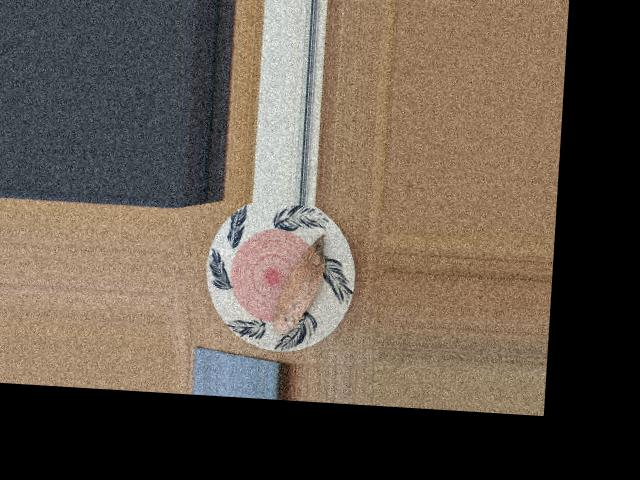sweet_potato: (269, 242, 326, 330)
